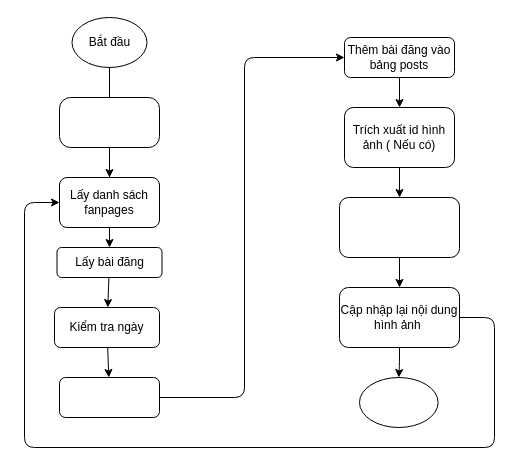
Image size: 520x473. Some labels were removed from this diagram. The box of each missing label's shape, as (x1, y1, x2, y2) in pixels:
Kiểm tra post_id: (58, 376, 160, 418)
Két nối với CSDL: (58, 96, 160, 148)
Kết thúc: (358, 376, 438, 428)
Thêm dữ liệu vào bảng posts_items: (338, 196, 460, 258)
